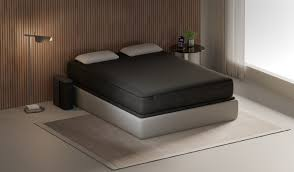bed-matress: (71, 50, 234, 118)
